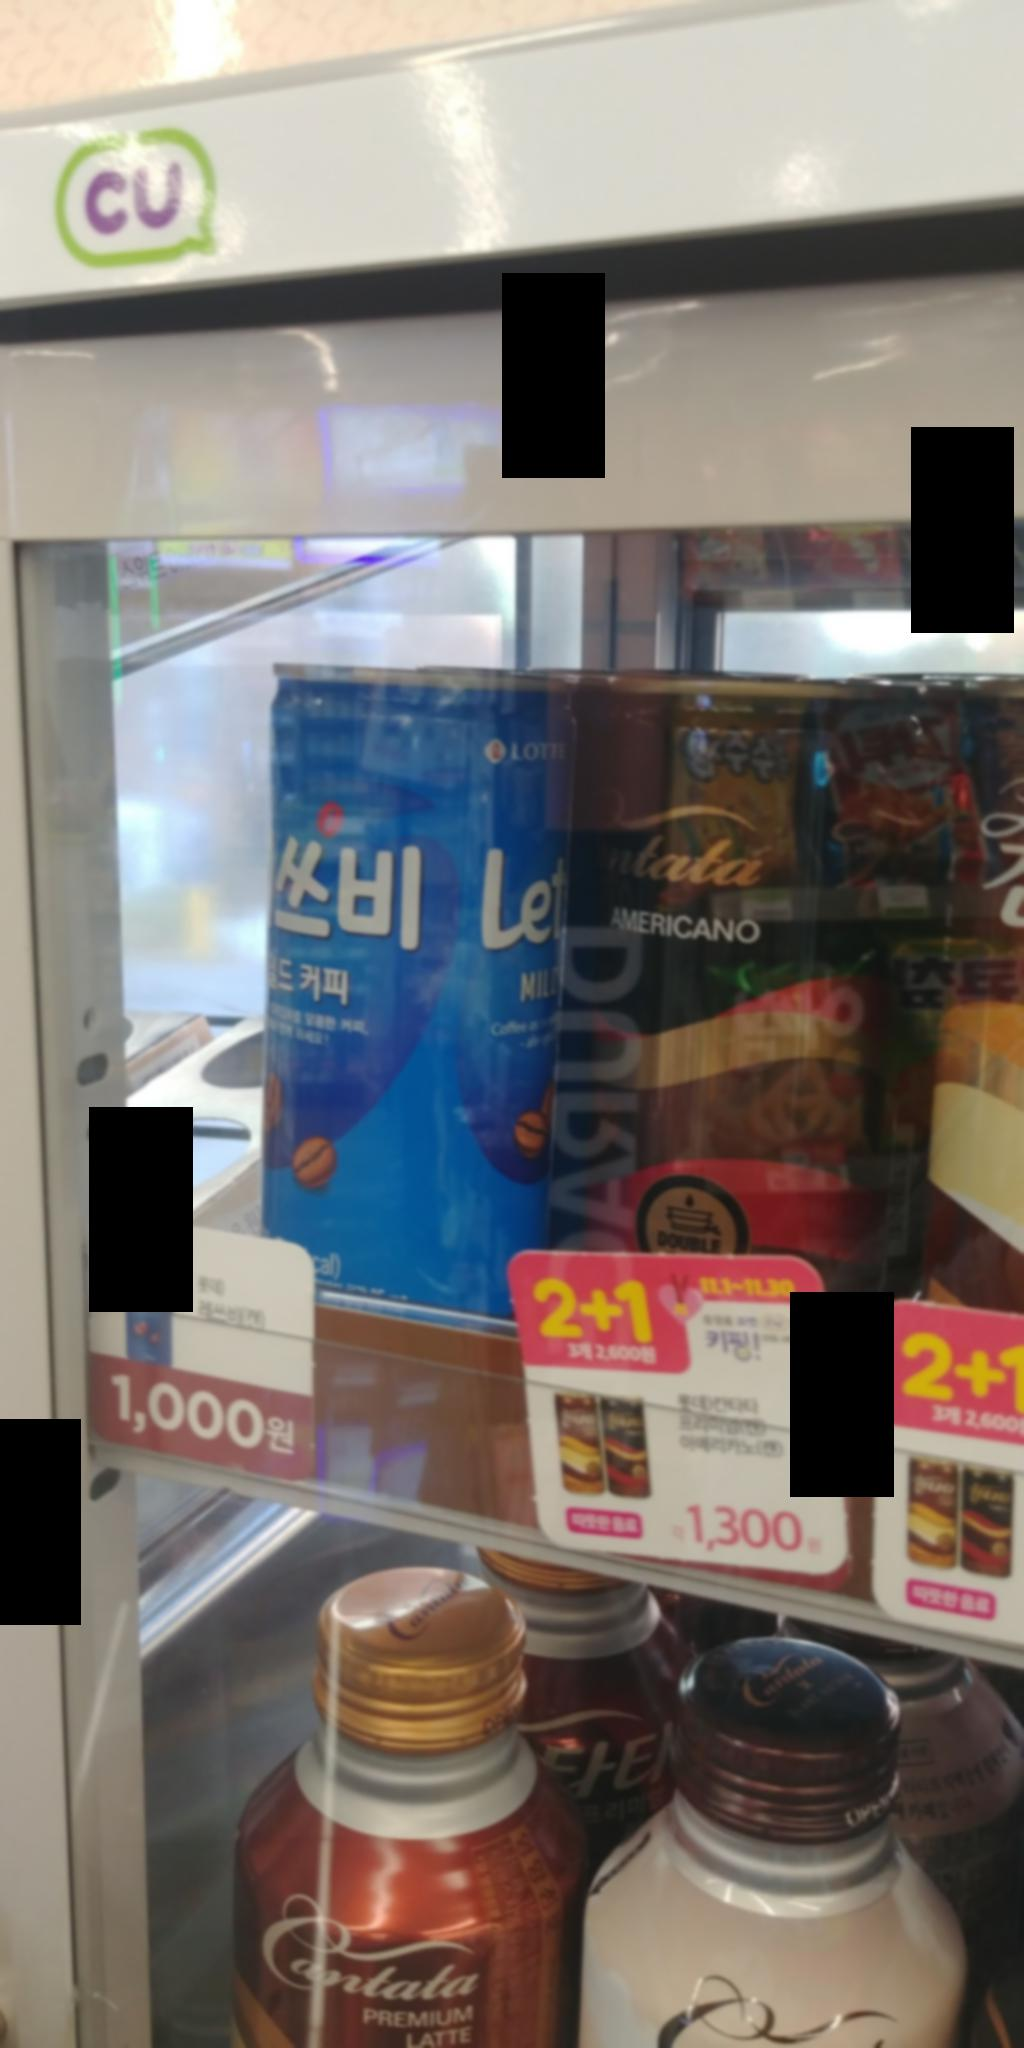letsbe: (238, 610, 571, 1292)
